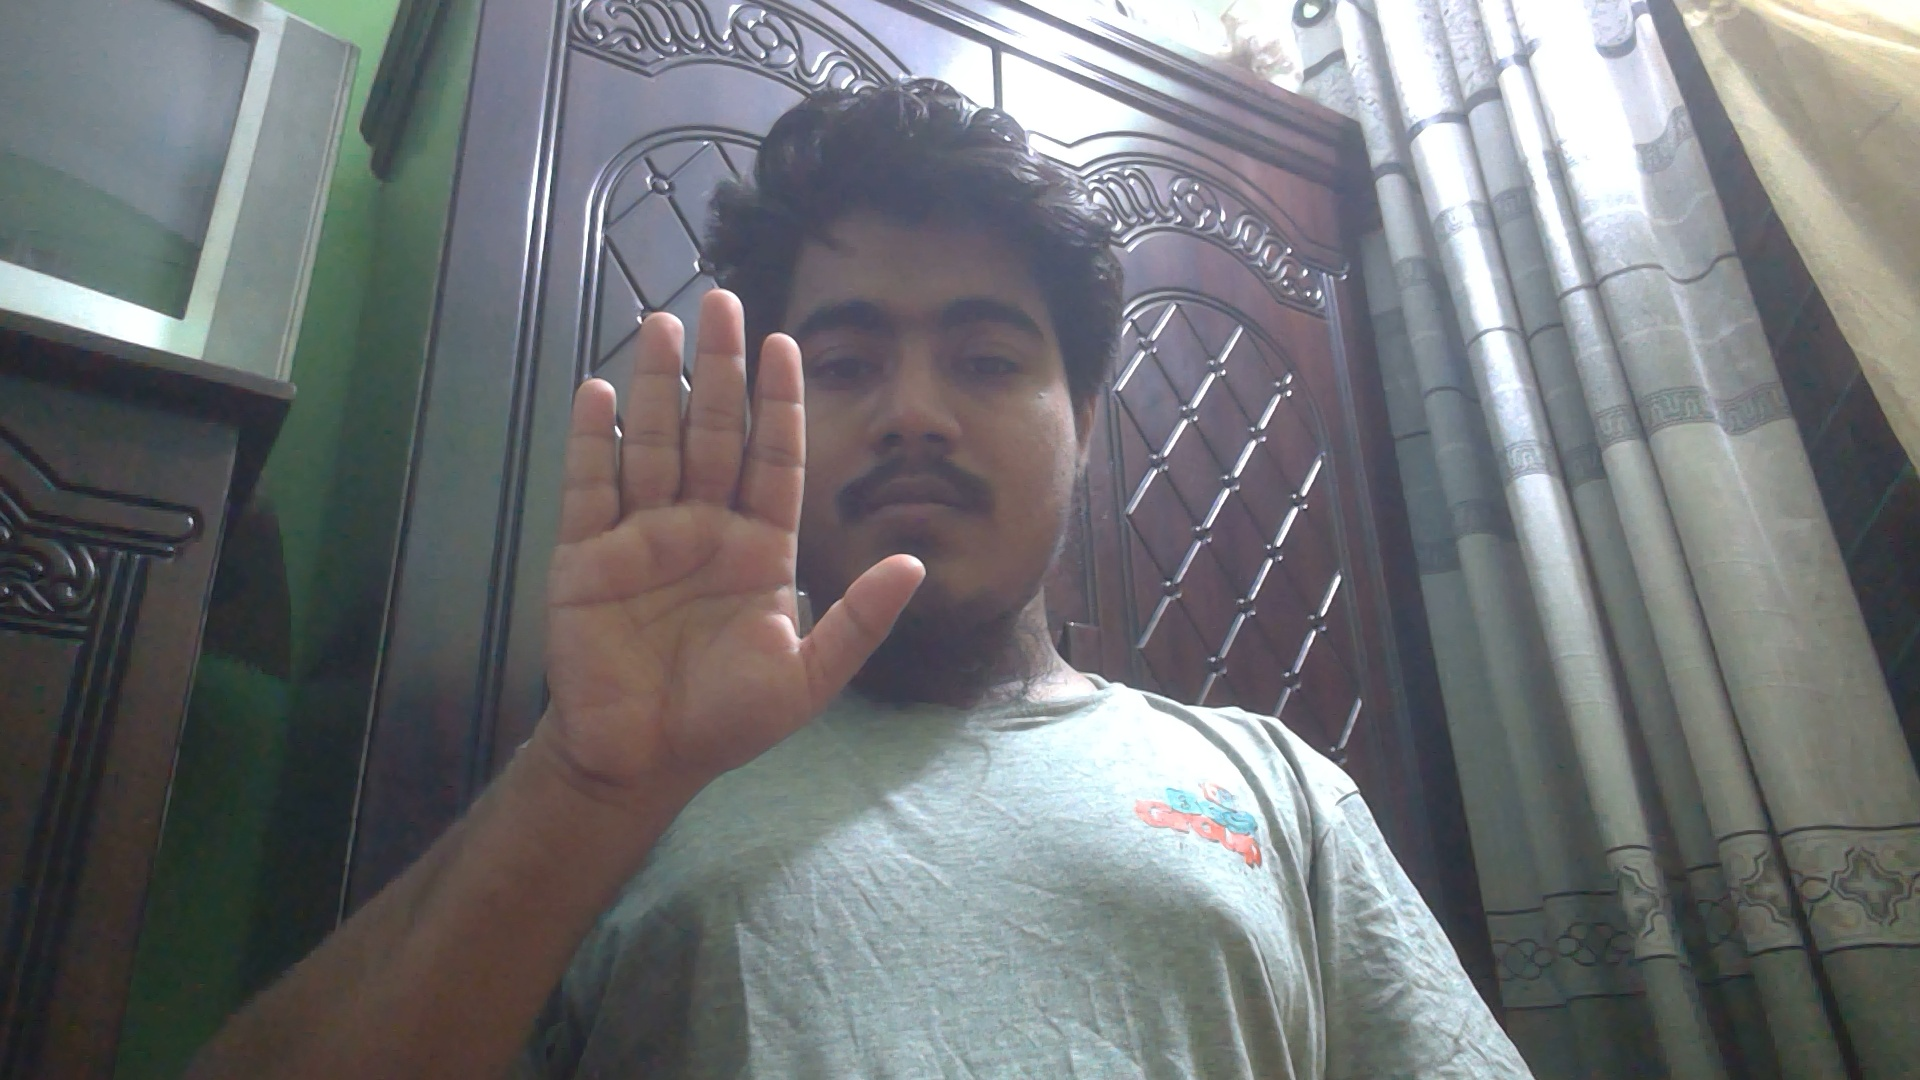Hello: (535, 284, 934, 789)
